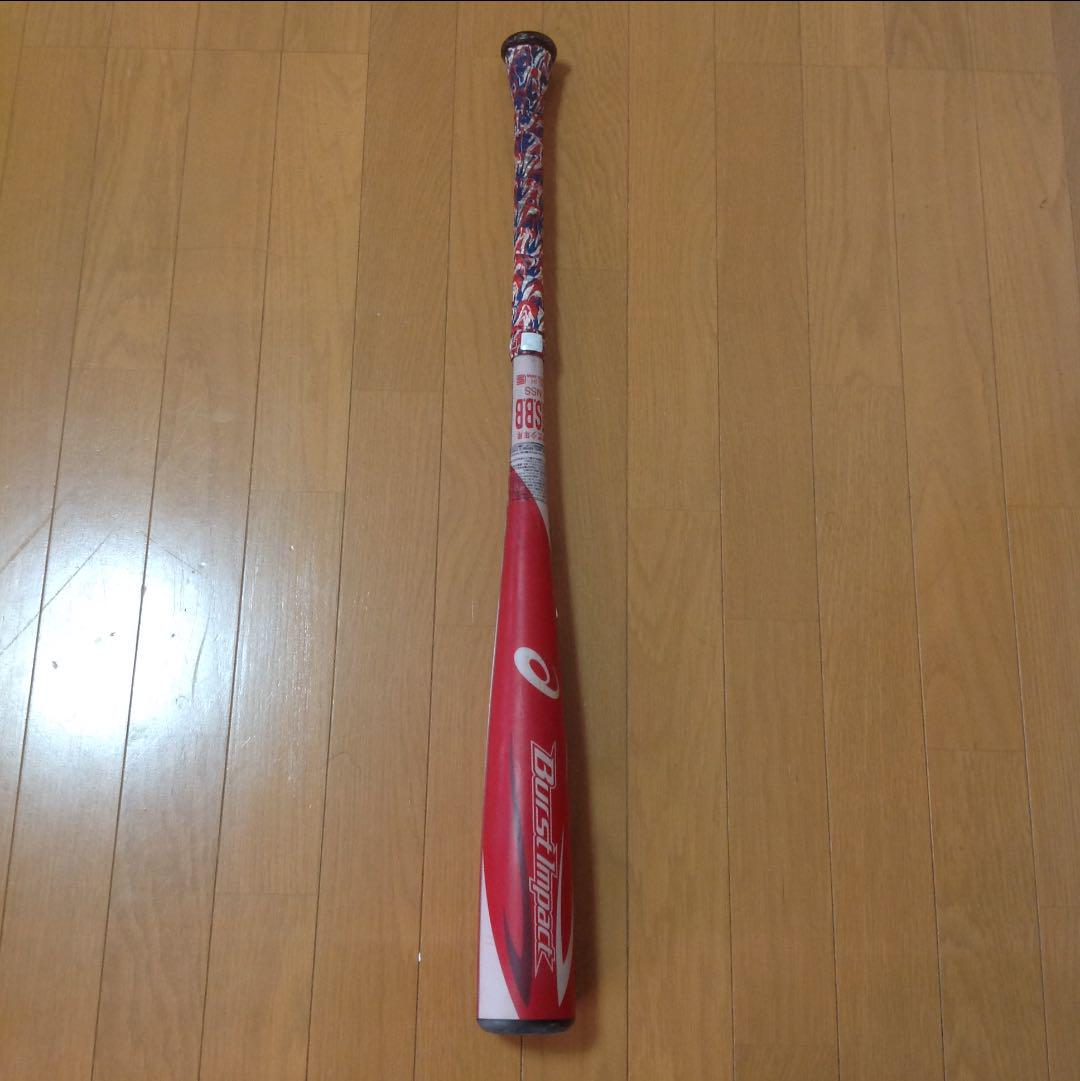bat: (475, 27, 589, 1038)
